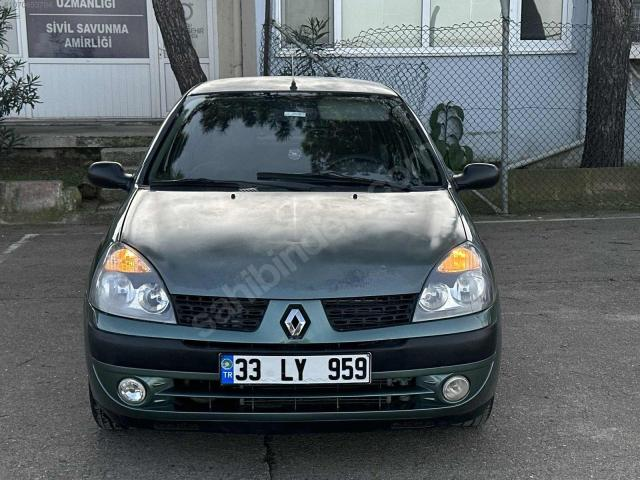plaka: (221, 354, 370, 384)
